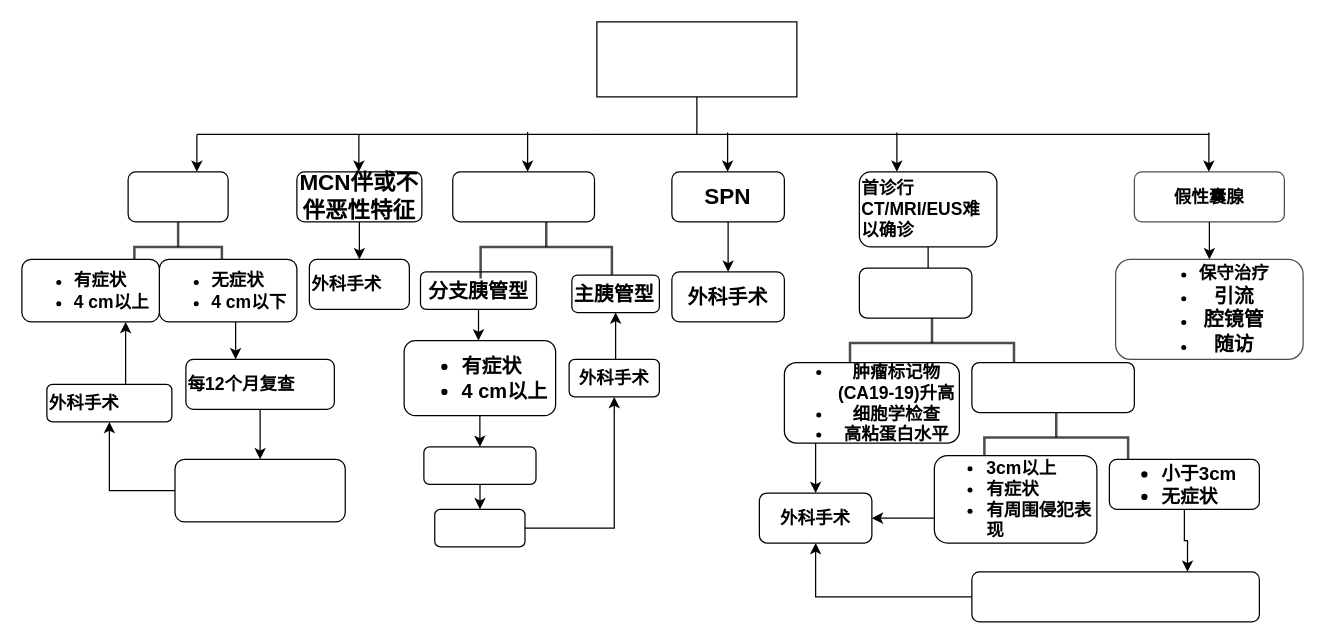
This 1325x644 diagram has some shape labels left out. Here are the shapes that lost their labels. From the top down, the centre of each, then its label:
the point at 696,59: 胰腺囊性肿瘤
the point at 177,196: SCN
the point at 523,196: IPMN
the point at 915,292: 细针穿刺
the point at 1052,386: 细针穿刺无法确诊
the point at 479,465: 每半年复查
the point at 259,490: 疑有恶大 肿瘤增大
the point at 479,527: 疑有恶变
the point at 1115,596: 2年内没半年复查，此后每年复查
